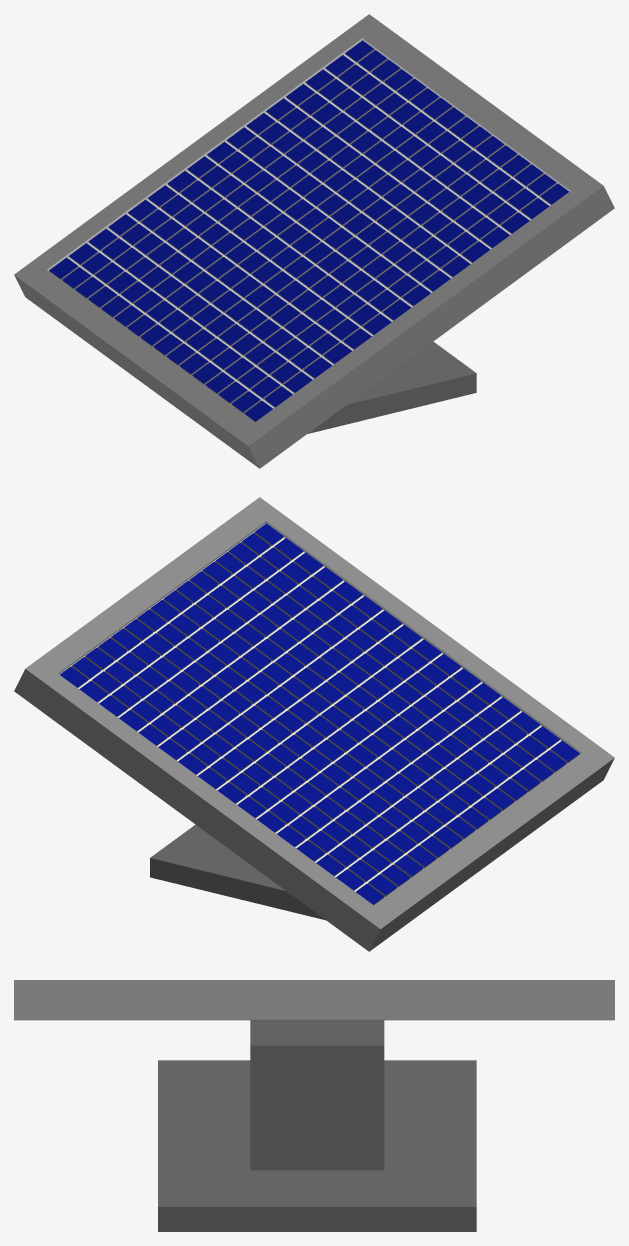
File: SolarPannel.fbx
3 renders of one model, top to bottom at view 1: azimuth 30°, elevation 25°; view 2: azimuth 150°, elevation 25°; view 3: azimuth 270°, elevation 25°, orthographic. The views are drawn at different scales.
Visible parts, largest first — view 1: Cube.001, Cube; view 2: Cube.001, Cube; view 3: Cube, Cube.001.
Boxes of the visible parts, x1=… form: Cube.001: x1=14, y1=14, x2=614, y2=468; Cube: x1=308, y1=341, x2=476, y2=433; Cube.001: x1=14, y1=497, x2=614, y2=951; Cube: x1=150, y1=824, x2=325, y2=920; Cube: x1=158, y1=1020, x2=476, y2=1231; Cube.001: x1=14, y1=980, x2=614, y2=1020.
Size of the model in its own units: 552 by 332 by 611.
